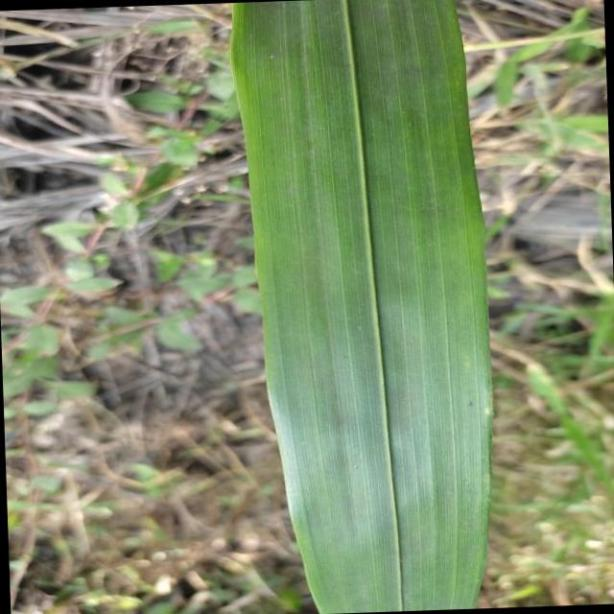Healthy: (230, 5, 496, 614)
